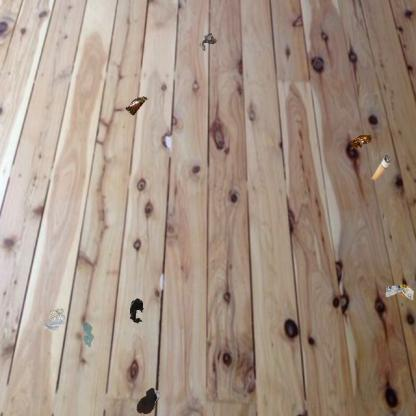dirty: (41, 307, 68, 333), (370, 154, 392, 184), (384, 282, 416, 301), (123, 94, 148, 118), (128, 296, 146, 325), (348, 134, 374, 152), (198, 30, 219, 52)
liquid: (135, 387, 161, 415), (80, 321, 96, 347)
